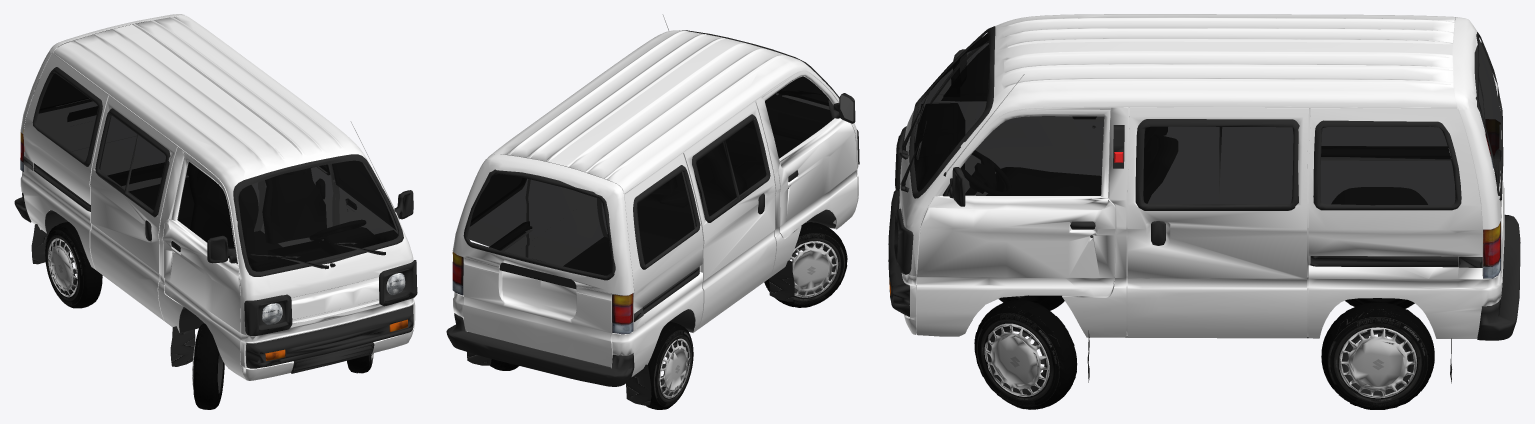
The model's file is kei_van_lod1.glb.
The picture shows the model from 3 angles, left to right: view 1: azimuth 30°, elevation 25°; view 2: azimuth 150°, elevation 25°; view 3: azimuth 270°, elevation 25°; orthographic projection. The views are drawn at different scales.
Visible parts, largest first — view 1: Object_124, Object_15, Object_116, Object_5, Object_122, Object_9, Object_70; view 2: Object_124, Object_116, Object_15, Object_122, Object_5, Object_9, Object_64; view 3: Object_124, Object_116, Object_15, Object_5, Object_9, Object_122, Object_64.
Part boxes in pixels (x1,y1,x2,y2): Object_124: [20, 14, 415, 380]; Object_15: [14, 21, 417, 393]; Object_116: [36, 73, 398, 271]; Object_5: [45, 222, 373, 409]; Object_122: [23, 156, 280, 367]; Object_9: [48, 238, 373, 386]; Object_70: [262, 273, 405, 324]; Object_124: [452, 30, 858, 376]; Object_116: [468, 76, 833, 275]; Object_15: [446, 30, 859, 405]; Object_122: [471, 200, 836, 367]; Object_5: [490, 222, 847, 409]; Object_9: [659, 241, 838, 398]; Object_64: [452, 252, 633, 334]; Object_124: [899, 14, 1504, 338]; Object_116: [914, 33, 1501, 205]; Object_15: [888, 26, 1520, 395]; Object_5: [974, 295, 1434, 409]; Object_9: [984, 323, 1416, 398]; Object_122: [972, 187, 1482, 338]; Object_64: [1483, 119, 1500, 278].
Bounding box in the file's own units: 1.62 × 1.88 × 3.3.
15 materials, 4 textured.
